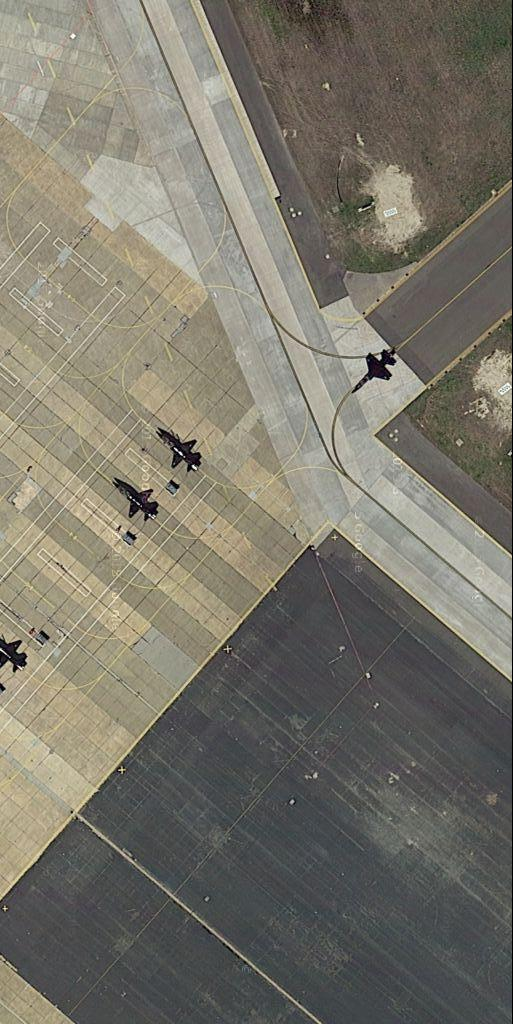plane: (347, 346, 401, 396), (109, 475, 164, 522), (155, 426, 205, 475)
